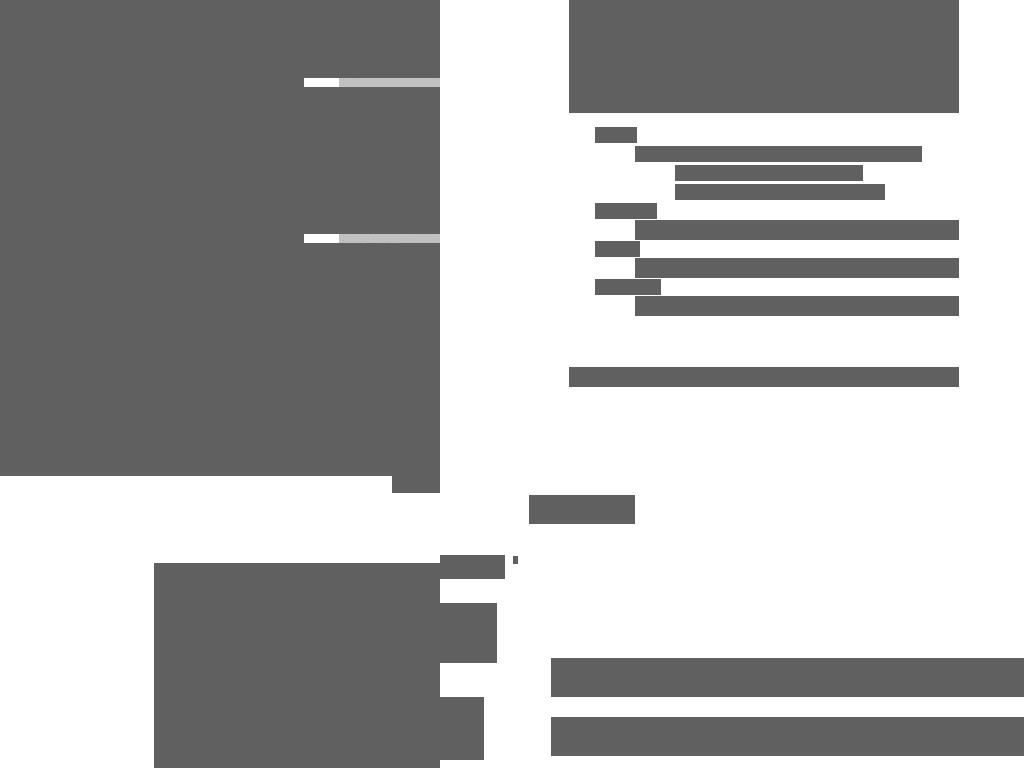button: (0, 243, 440, 476), (0, 87, 440, 234), (0, 207, 304, 255), (0, 306, 304, 354), (529, 495, 635, 524), (440, 555, 505, 579), (254, 142, 304, 163), (352, 7, 376, 39)
field: (0, 63, 304, 101), (0, 135, 304, 173)
heading: (551, 658, 1024, 682), (551, 717, 1024, 741)
iframe: (154, 563, 440, 768)
image: (0, 243, 440, 476), (0, 88, 440, 233), (0, 0, 440, 78), (513, 556, 518, 564)
link: (675, 184, 885, 200), (675, 165, 863, 181), (595, 279, 661, 295), (595, 203, 657, 219), (595, 241, 640, 257), (595, 127, 637, 143)
text: (569, 0, 959, 113), (569, 367, 959, 387), (551, 682, 1024, 697), (551, 741, 1024, 756), (635, 220, 959, 240), (635, 258, 959, 278), (635, 296, 959, 316), (0, 271, 304, 290), (635, 146, 922, 162), (440, 603, 497, 663), (0, 56, 161, 75), (440, 697, 484, 760), (0, 146, 79, 165), (538, 503, 626, 515), (254, 143, 304, 161), (118, 222, 154, 240)
